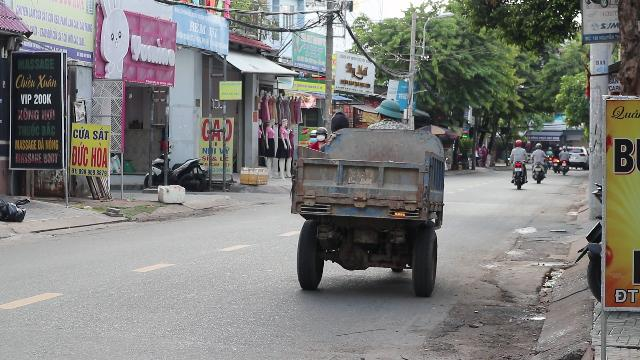helmet: (373, 98, 403, 122)
motorcyclist: (288, 96, 446, 296)
